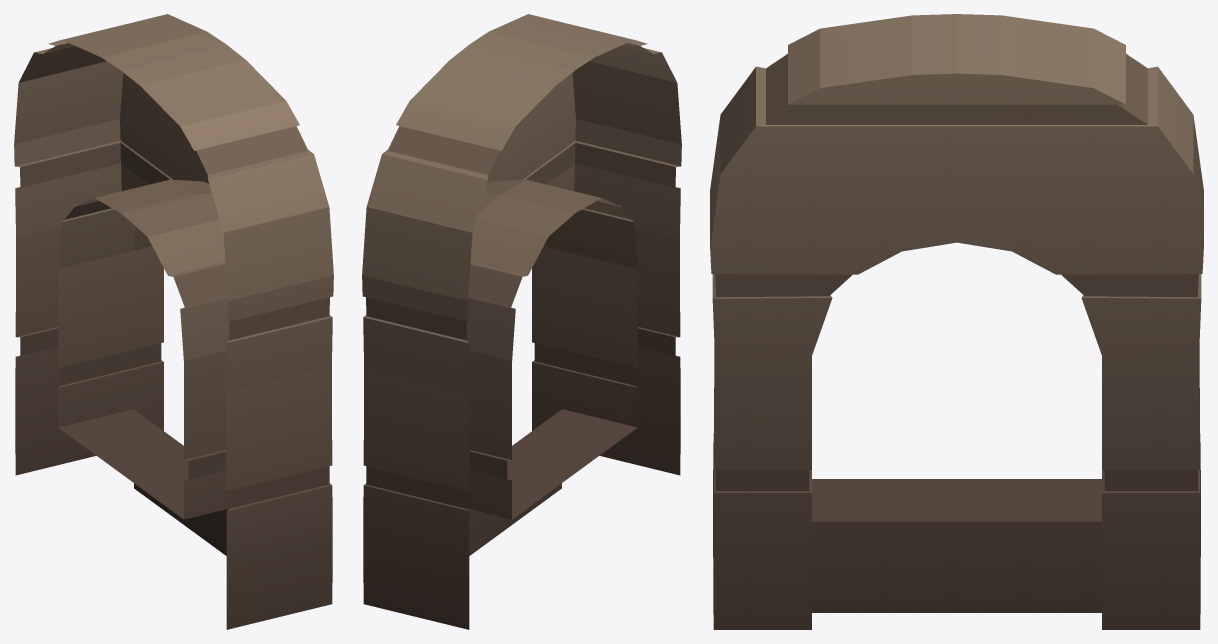
The model's file is Puerta sin reja.fbx.
3 views of the same model, side by side, from view 1: azimuth 30°, elevation 25°; view 2: azimuth 150°, elevation 25°; view 3: azimuth 270°, elevation 25° (orthographic). The views are drawn at different scales.
Parts seen in each view (by area): view 1: ParedPuertaBC.002; view 2: ParedPuertaBC.002; view 3: ParedPuertaBC.002.
Boxes of the visible parts, box(x1,y1,x2,y2) form: ParedPuertaBC.002: box(14, 14, 333, 629); ParedPuertaBC.002: box(362, 14, 681, 629); ParedPuertaBC.002: box(710, 14, 1203, 629).
Size of the model in its own units: 280 by 1218 by 980.
